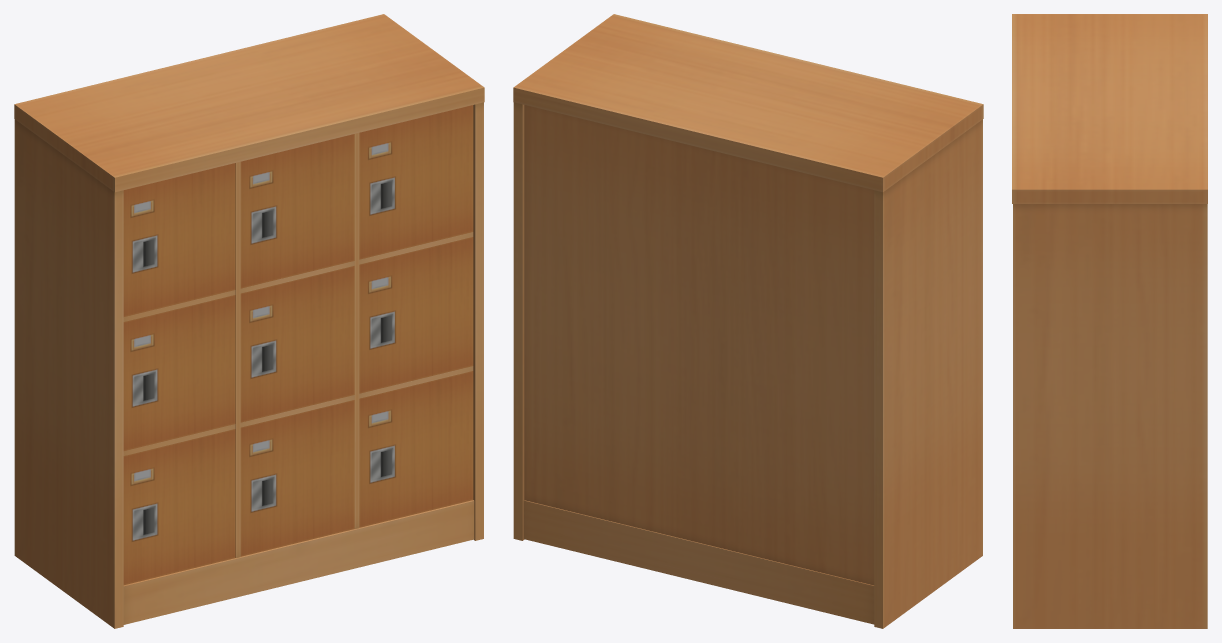
The model's file is set_shoecupboard_b_15.fbx.
The picture shows the model from 3 angles, left to right: view 1: azimuth 30°, elevation 25°; view 2: azimuth 150°, elevation 25°; view 3: azimuth 270°, elevation 25°; orthographic projection. The views are drawn at different scales.
Parts seen in each view (by area): view 1: shoecupboard_b_15, door_b_15_06, door_b_15_05, door_b_15_09, door_b_15_08, door_b_15_07, door_b_15_04, door_b_15_02, door_b_15_03, door_b_15_01; view 2: shoecupboard_b_15; view 3: shoecupboard_b_15.
Part boxes in pixels (box(x1,y1,x2,y2)): shoecupboard_b_15: box(14, 14, 484, 628); door_b_15_06: box(240, 400, 354, 556); door_b_15_05: box(240, 266, 354, 422); door_b_15_09: box(359, 371, 473, 527); door_b_15_08: box(359, 237, 473, 393); door_b_15_07: box(359, 105, 473, 259); door_b_15_04: box(240, 134, 354, 288); door_b_15_02: box(123, 295, 235, 450); door_b_15_03: box(123, 429, 235, 584); door_b_15_01: box(123, 163, 235, 316); shoecupboard_b_15: box(513, 14, 983, 628); shoecupboard_b_15: box(1012, 14, 1207, 628).
Size of the model in its own units: 79.39 by 92.62 by 37.38.
